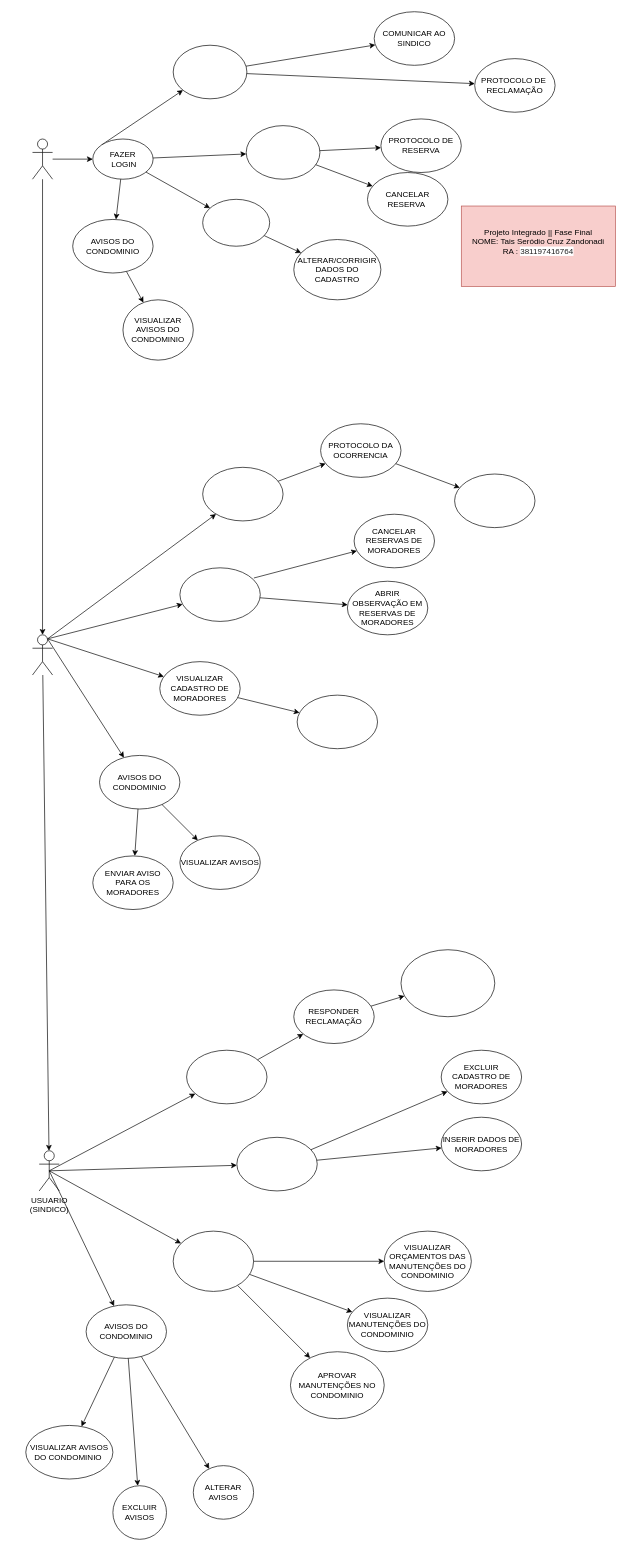
Some shapes in this 627 by 1551 pixel diagram are drawn without their labels. The shapes that lost their labels are listed below. From the top down, each one's centre as x and y in pixels, then its label:
At [210,72]: "- REGISTRAR RECLAMAÇÃO".
At [42,158]: "USUARIO (MORADOR)".
At [283,152]: "RESERVAS DE AREAS COMUNS".
At [236,222]: "CADASTRAR LOGIN".
At [242,494]: "REGISTRAR UMA OCORRENCIA".
At [494,500]: "VISUALIZAR OCORRENCIAS".
At [219,594]: "VISUALIZAR RESERVAS DE AREAS COMUNS".
At [42,654]: "USUARIO (FUNCIONARIO)".
At [337,721]: "ENVIAR RECADO PARA O MORADOR".
At [447,983]: "MARCAR RECLAMAÇÃO COMO RESOLVIDA".
At [226,1077]: "VISUALIZAR RECLAMAÇÕES".
At [276,1164]: "AUTORIZAR CADASTRO DE MORADORES".
At [213,1260]: "MANUTENÇÕES DO CONDOMINIO".
